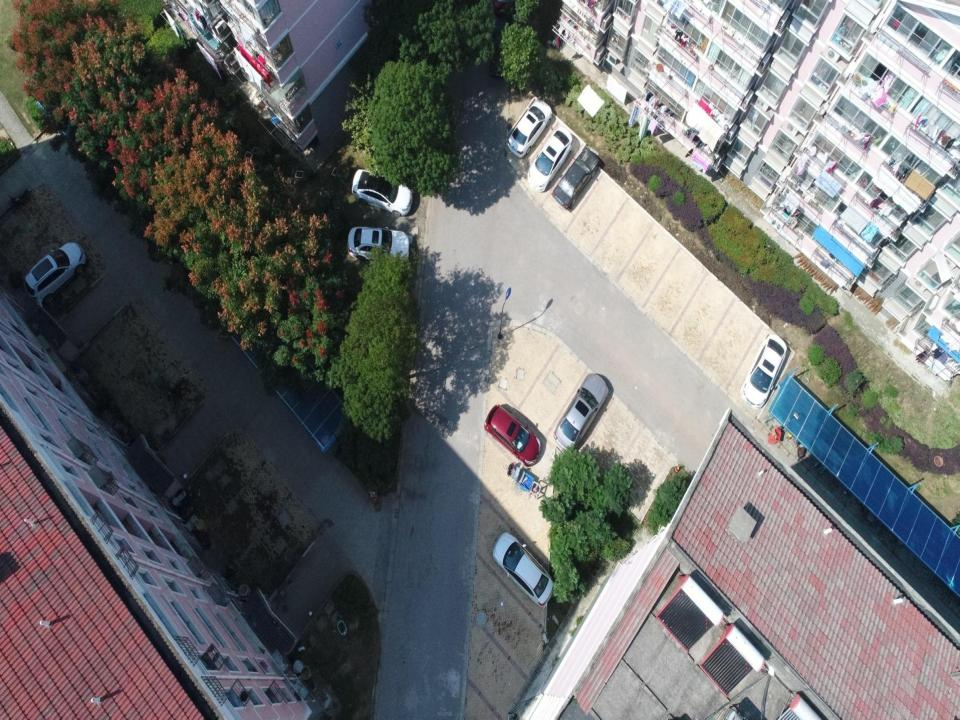car: (493, 532, 554, 607), (554, 373, 608, 452), (24, 242, 86, 305), (484, 403, 541, 467), (740, 334, 787, 409), (552, 148, 600, 210), (351, 169, 412, 217), (528, 126, 572, 192), (507, 100, 552, 158), (348, 226, 410, 264)
